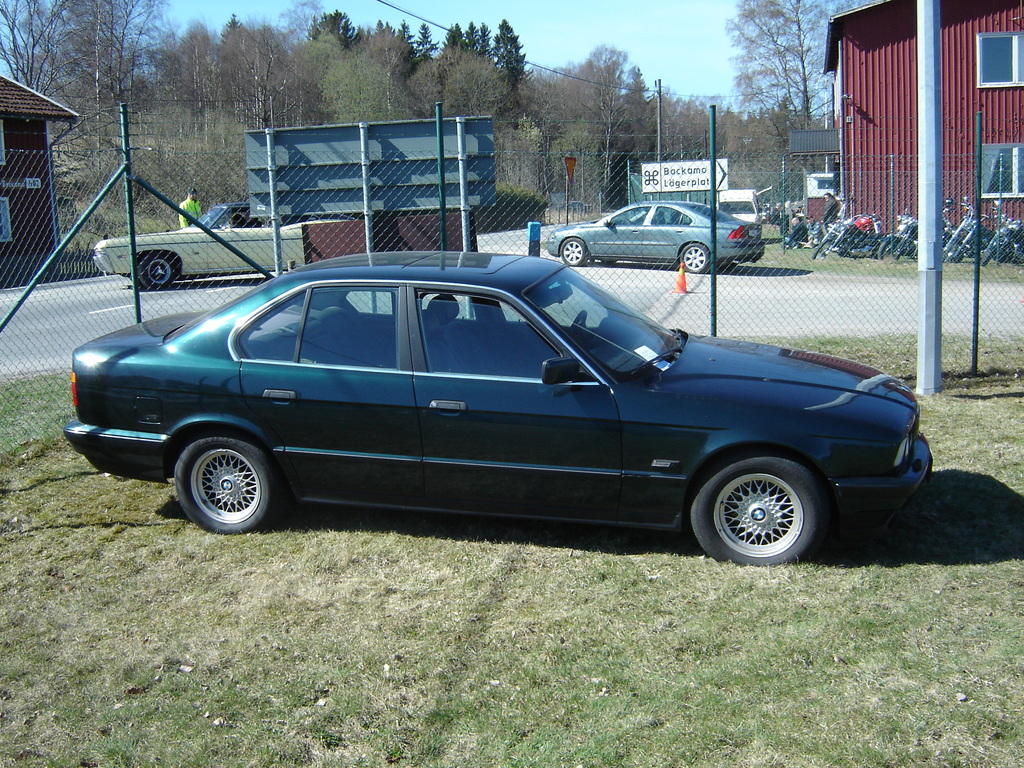mobil: (38, 243, 936, 574), (535, 207, 768, 270)
